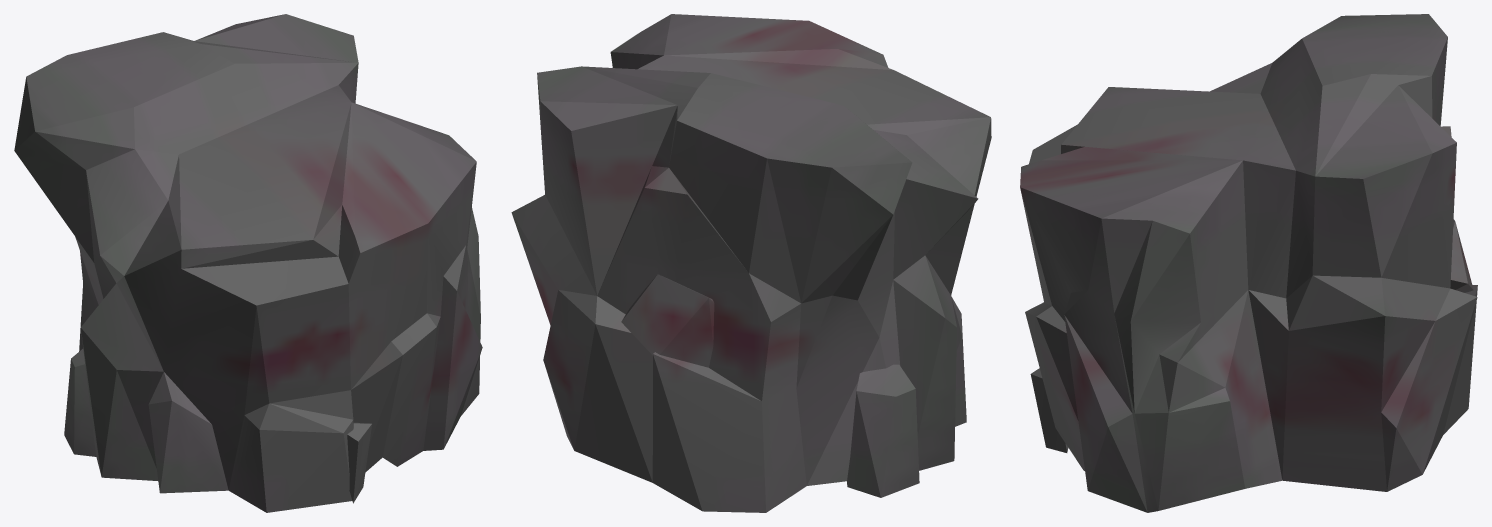
Rendered from Terrain_Volcano_1.fbx.
3 views of the same model, side by side, from view 1: azimuth 30°, elevation 25°; view 2: azimuth 150°, elevation 25°; view 3: azimuth 270°, elevation 25° (orthographic). The views are drawn at different scales.
Visible parts, largest first — view 1: terrain_mountain_435_LOD1; view 2: terrain_mountain_435_LOD1; view 3: terrain_mountain_435_LOD1.
Boxes of the visible parts, left/top/right/bottom form: terrain_mountain_435_LOD1: left=14, top=14, right=482, bottom=512; terrain_mountain_435_LOD1: left=511, top=14, right=991, bottom=512; terrain_mountain_435_LOD1: left=1020, top=14, right=1477, bottom=512.
Bounding box in the file's own units: 154 × 141 × 157.
Materials: 1 (1 with a texture image).
